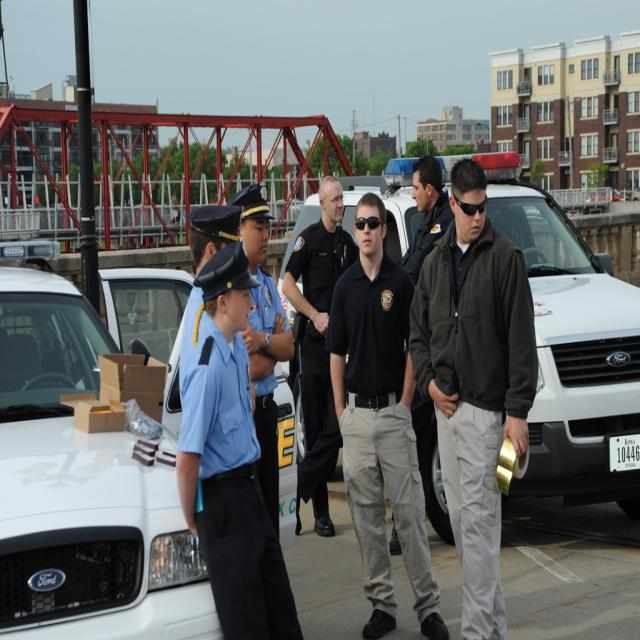car: (0, 262, 229, 638)
